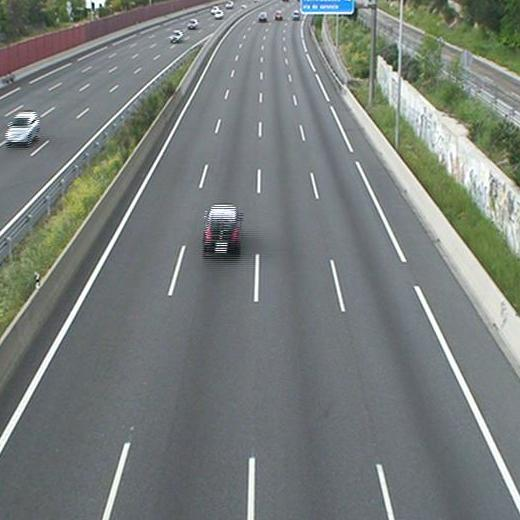car: (202, 203, 243, 259)
